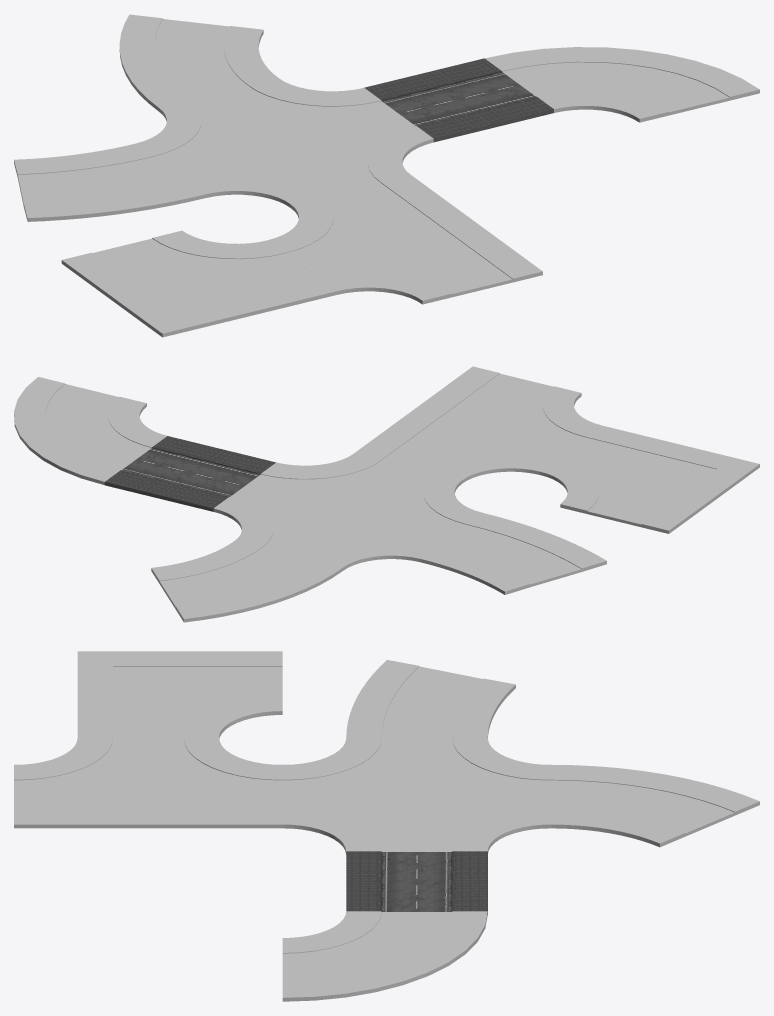
Rendered from Road1.fbx.
The picture shows the model from 3 angles, top to bottom: view 1: azimuth 30°, elevation 25°; view 2: azimuth 150°, elevation 25°; view 3: azimuth 270°, elevation 25°; orthographic projection. The views are drawn at different scales.
Parts seen in each view (by area): view 1: Road_Quad_Intersection, Road_Tri_Intersection, Road_Corner_Intersection, Road_90_Bend, Road_45_Bend, Road_30_Bend, Road_Straight; view 2: Road_Quad_Intersection, Road_Tri_Intersection, Road_Corner_Intersection, Road_90_Bend, Road_45_Bend, Road_30_Bend, Road_Straight; view 3: Road_Quad_Intersection, Road_Tri_Intersection, Road_Corner_Intersection, Road_90_Bend, Road_45_Bend, Road_30_Bend, Road_Straight.
Boxes of the visible parts, <box> form: Road_Quad_Intersection: <box>136,78,433,207</box>; Road_Tri_Intersection: <box>268,175,542,304</box>; Road_Corner_Intersection: <box>61,230,336,337</box>; Road_90_Bend: <box>485,47,759,122</box>; Road_45_Bend: <box>119,14,278,110</box>; Road_30_Bend: <box>14,143,204,221</box>; Road_Straight: <box>364,58,553,142</box>; Road_Quad_Intersection: <box>213,453,482,570</box>; Road_Tri_Intersection: <box>354,366,601,483</box>; Road_Corner_Intersection: <box>539,425,759,533</box>; Road_90_Bend: <box>14,377,166,484</box>; Road_45_Bend: <box>151,541,342,622</box>; Road_30_Bend: <box>420,513,606,594</box>; Road_Straight: <box>104,436,275,511</box>; Road_Quad_Intersection: <box>282,738,551,854</box>; Road_Tri_Intersection: <box>14,738,282,828</box>; Road_Corner_Intersection: <box>77,651,282,738</box>; Road_90_Bend: <box>282,911,487,1001</box>; Road_45_Bend: <box>551,764,759,847</box>; Road_30_Bend: <box>346,660,515,738</box>; Road_Straight: <box>346,851,487,914</box>.
Bounding box in the file's own units: 2320 × 12 × 2110.
